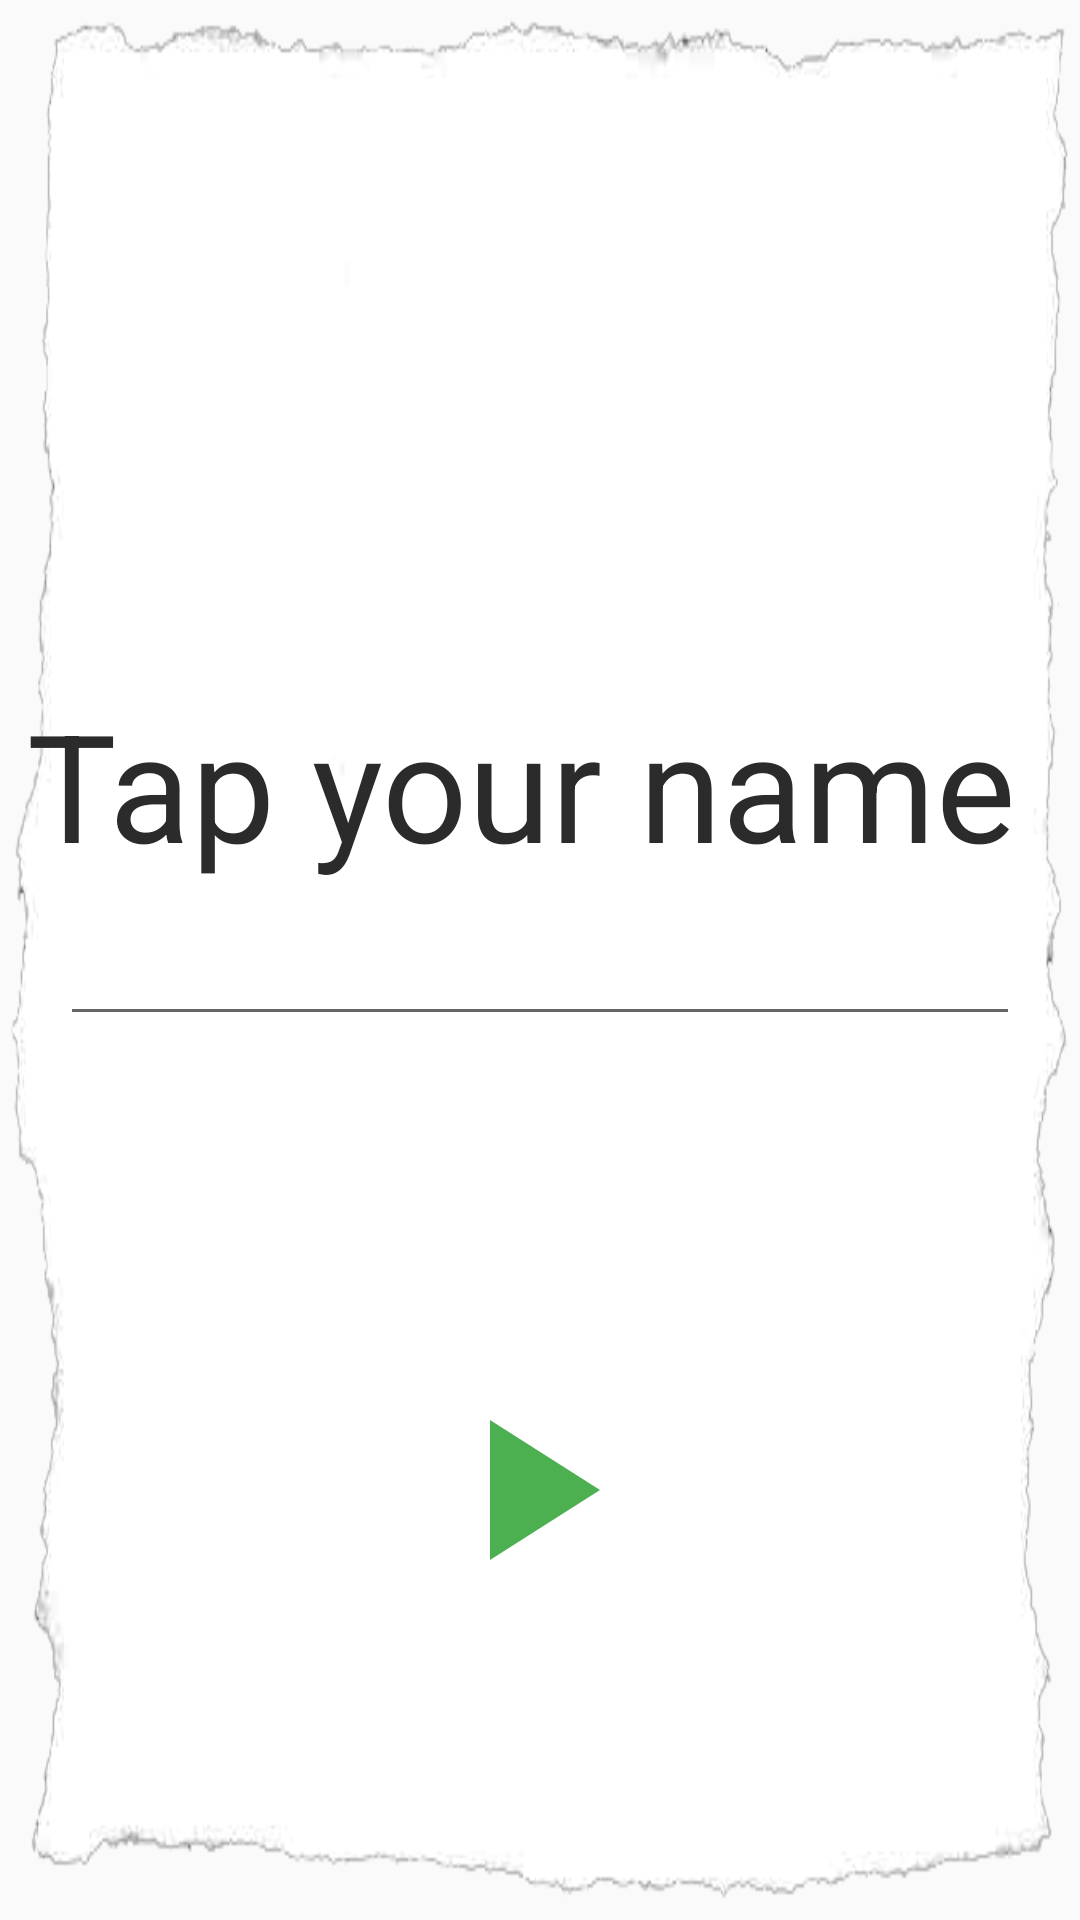

Locate icon controls on the screen. Image size 1080×1920, boxes as (x1, y1, x2, y2).
play arrow: (490, 1420, 600, 1560)
